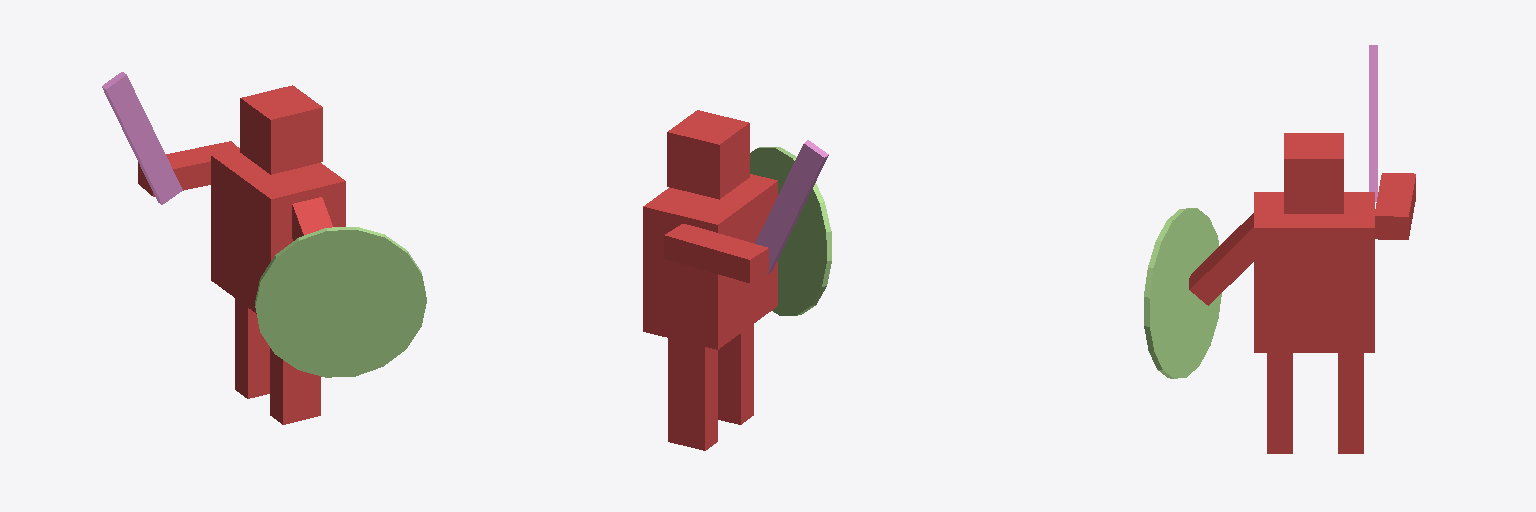
The model's file is BA_Footman_01.obj.
3 renders of one model, left to right at view 1: azimuth 30°, elevation 25°; view 2: azimuth 150°, elevation 25°; view 3: azimuth 270°, elevation 25°, orthographic.
Visible parts, largest first — view 1: Box001, Cylinder001, Box008; view 2: Box001, Cylinder001, Box008; view 3: Box001, Cylinder001, Box008.
Boxes of the visible parts, x1,y1,x2,y2 form: Box001: [138, 85, 345, 424]; Cylinder001: [255, 227, 426, 377]; Box008: [102, 72, 182, 204]; Box001: [643, 110, 777, 450]; Cylinder001: [750, 147, 831, 315]; Box008: [755, 140, 828, 273]; Box001: [1189, 133, 1415, 453]; Cylinder001: [1144, 208, 1221, 378]; Box008: [1369, 45, 1377, 201].
Size of the model in its own units: 141 by 217 by 158.